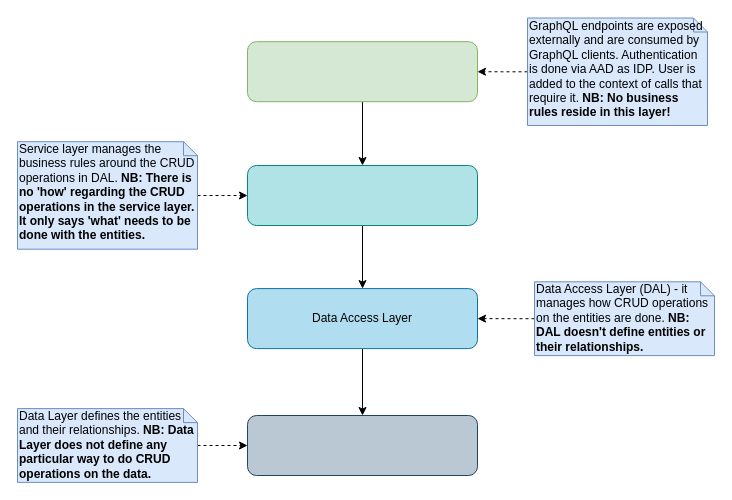
The diagram is 732 pixels wide and 500 high, and some of its shapes have lost their labels. Each missing label, with the centre of its shape:
Data Layer: point 362,445
GraphQL API: point 362,71
Service Layer: point 362,195
